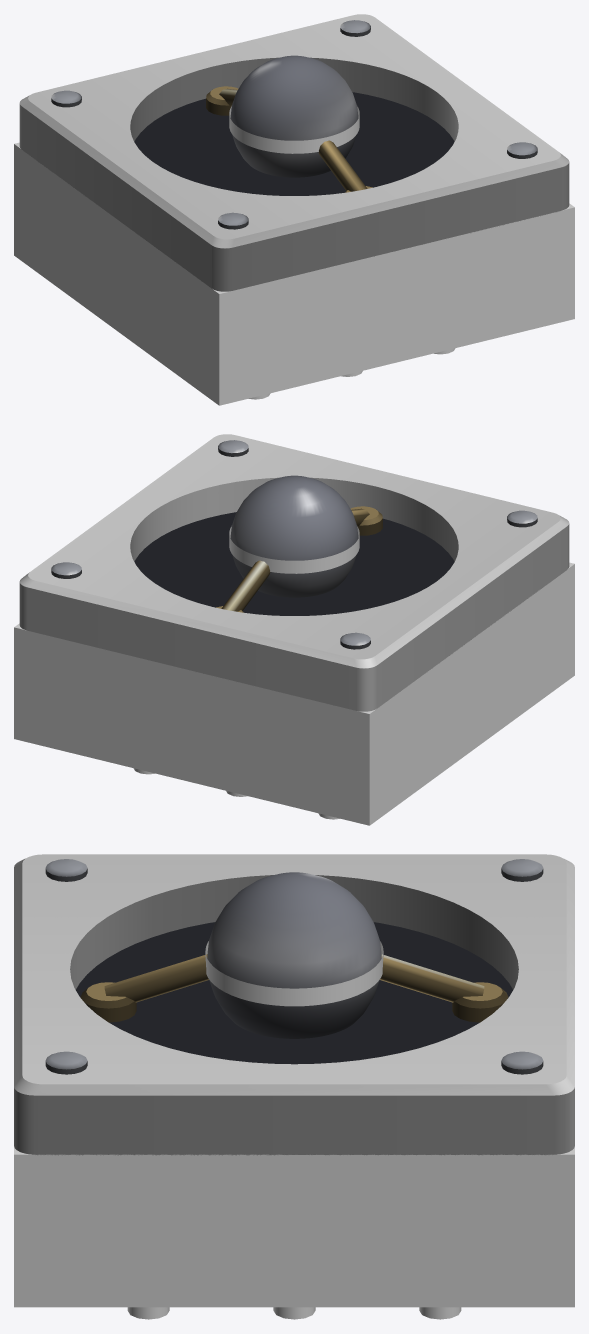
The model's file is part_thermistor.glb.
3 renders of one model, top to bottom at view 1: azimuth 30°, elevation 25°; view 2: azimuth 150°, elevation 25°; view 3: azimuth 270°, elevation 25°, orthographic. The views are drawn at different scales.
Parts seen in each view (by area): view 1: Plattform, Gehaeuse, Korpus, Licht; view 2: Plattform, Gehaeuse, Korpus, Licht; view 3: Plattform, Gehaeuse, Korpus, Licht, Stecker.
Boxes of the visible parts, <box> form: Plattform: <box>19,14,569,291</box>; Gehaeuse: <box>14,142,574,405</box>; Korpus: <box>51,20,537,229</box>; Licht: <box>229,106,359,153</box>; Plattform: <box>19,434,569,711</box>; Gehaeuse: <box>14,562,574,825</box>; Korpus: <box>51,440,537,649</box>; Licht: <box>229,526,359,573</box>; Plattform: <box>14,854,574,1155</box>; Gehaeuse: <box>14,1146,574,1307</box>; Korpus: <box>45,859,543,1074</box>; Licht: <box>205,941,383,1006</box>; Stecker: <box>127,1307,461,1319</box>.
Bounding box in the file's own units: 0.8 × 0.58 × 0.8.
